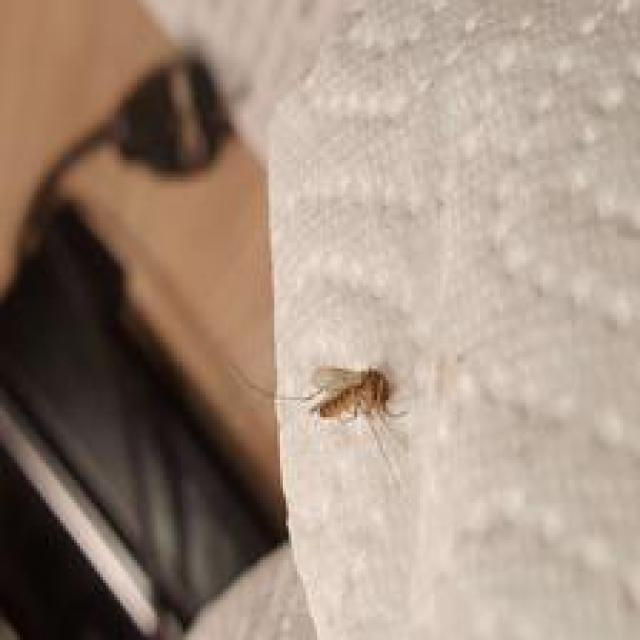Culex: (228, 363, 412, 488)
